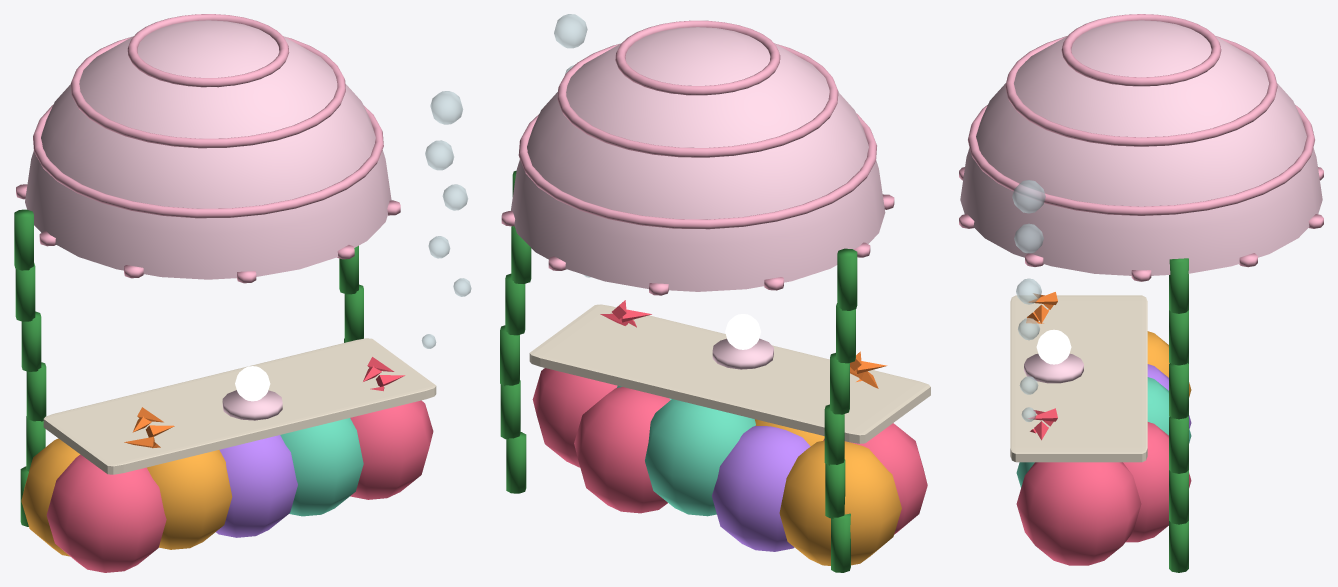
Rendered from stanek-sea.glb.
3 renders of one model, left to right at view 1: azimuth 30°, elevation 25°; view 2: azimuth 150°, elevation 25°; view 3: azimuth 270°, elevation 25°, orthographic. The views are drawn at different scales.
Visible parts, largest first — view 1: stanek-sea; view 2: stanek-sea; view 3: stanek-sea.
Boxes of the visible parts, x1,y1,x2,y2 form: stanek-sea: [14, 14, 471, 572]; stanek-sea: [500, 14, 930, 572]; stanek-sea: [959, 14, 1323, 572].
Size of the model in its own units: 3.55 by 4.2 by 2.92.
Materials: 3 (3 with a texture image).
